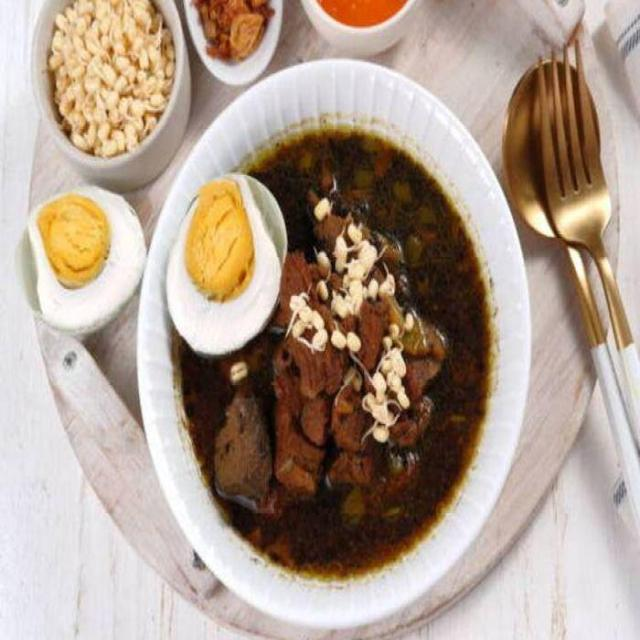Rawon: (194, 152, 482, 570)
